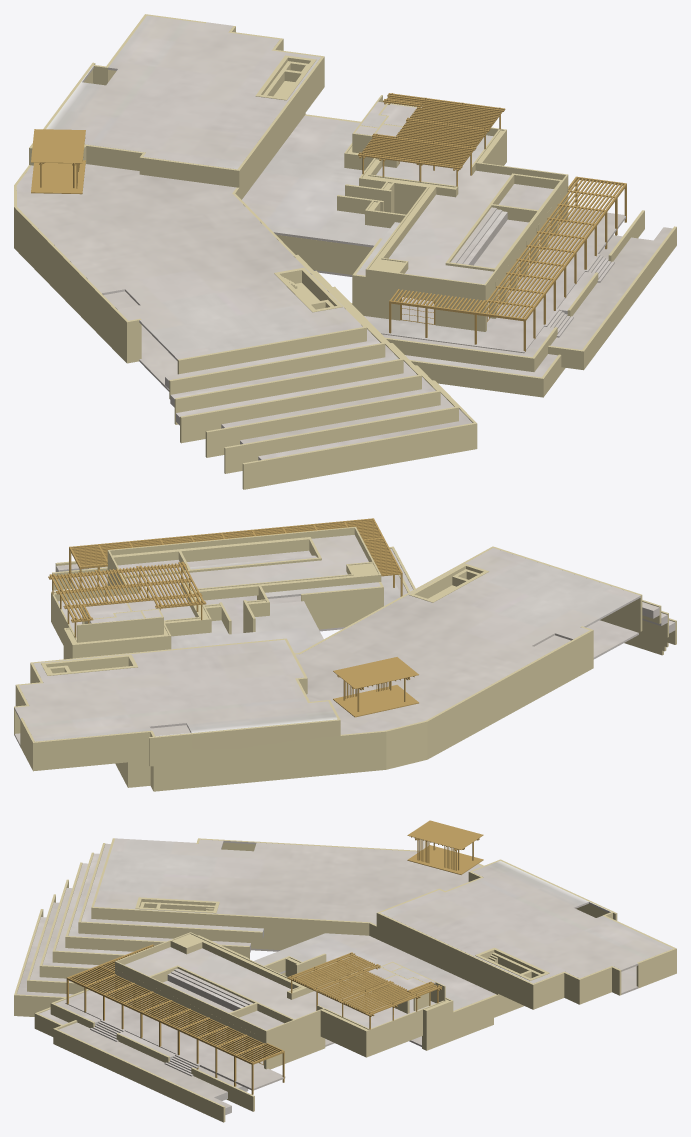
The model's file is Amenities.glb.
3 views of the same model, one above another, from view 1: azimuth 30°, elevation 25°; view 2: azimuth 150°, elevation 25°; view 3: azimuth 270°, elevation 25° (orthographic). The views are drawn at different scales.
Visible parts, largest first — view 1: AMW_Walls, AMW_Floor01, AMW_Floor02, AMW_Wood; view 2: AMW_Walls, AMW_Floor01, AMW_Floor02, AMW_Wood; view 3: AMW_Walls, AMW_Floor01, AMW_Floor02, AMW_Wood.
Part boxes in pixels (<box>): AMW_Walls: <box>14,14,676,489</box>; AMW_Floor01: <box>16,101,625,391</box>; AMW_Floor02: <box>46,15,672,460</box>; AMW_Wood: <box>31,93,626,351</box>; AMW_Walls: <box>14,527,676,791</box>; AMW_Floor01: <box>70,548,640,734</box>; AMW_Floor02: <box>14,535,675,746</box>; AMW_Wood: <box>48,518,418,717</box>; AMW_Walls: <box>14,838,676,1122</box>; AMW_Floor01: <box>65,838,495,1090</box>; AMW_Floor02: <box>17,843,673,1114</box>; AMW_Wood: <box>66,820,483,1094</box>.
Bounding box in the file's own units: 71.82 × 17.25 × 86.7.
3 materials, 1 textured.
